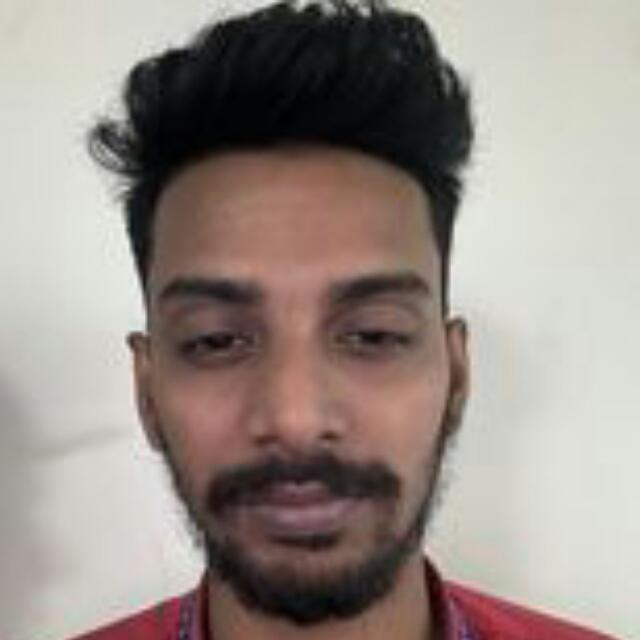sad: (50, 140, 554, 627)
